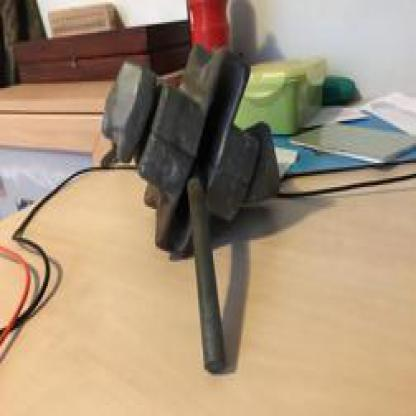Twistlock: (98, 31, 290, 385)
